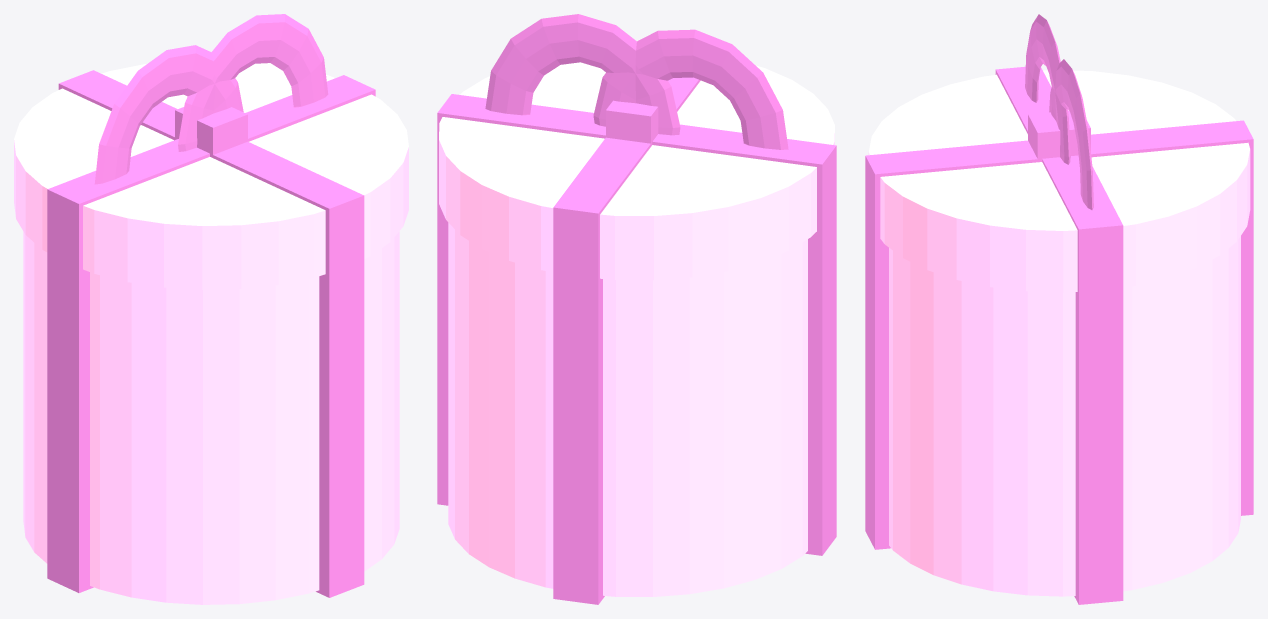
File: Tmpl_Round_Root_193.glb
The picture shows the model from 3 angles, left to right: view 1: azimuth 30°, elevation 25°; view 2: azimuth 150°, elevation 25°; view 3: azimuth 270°, elevation 25°; orthographic projection. The views are drawn at different scales.
Visible parts, largest first — view 1: Tmpl_Round_Base.191, Tmpl_Round_Lid.191, Tmpl_Round_Ribbon_Y.191, Tmpl_Round_Ribbon_X.191, Tmpl_Round_BowL.191, Tmpl_Round_BowR.191, Tmpl_Round_BowKnot.191; view 2: Tmpl_Round_Base.191, Tmpl_Round_Lid.191, Tmpl_Round_Ribbon_Y.191, Tmpl_Round_Ribbon_X.191, Tmpl_Round_BowL.191, Tmpl_Round_BowR.191, Tmpl_Round_BowKnot.191; view 3: Tmpl_Round_Base.191, Tmpl_Round_Lid.191, Tmpl_Round_Ribbon_X.191, Tmpl_Round_Ribbon_Y.191, Tmpl_Round_BowR.191, Tmpl_Round_BowL.191, Tmpl_Round_BowKnot.191.
Part boxes in pixels (x1,y1,x2,y2): Tmpl_Round_Base.191: [23, 231, 399, 604]; Tmpl_Round_Lid.191: [14, 63, 408, 289]; Tmpl_Round_Ribbon_Y.191: [58, 70, 364, 597]; Tmpl_Round_Ribbon_X.191: [47, 75, 375, 592]; Tmpl_Round_BowL.191: [178, 14, 328, 151]; Tmpl_Round_BowR.191: [94, 45, 243, 184]; Tmpl_Round_BowKnot.191: [175, 107, 247, 157]; Tmpl_Round_Base.191: [448, 223, 807, 596]; Tmpl_Round_Lid.191: [439, 62, 834, 280]; Tmpl_Round_Ribbon_Y.191: [553, 77, 700, 604]; Tmpl_Round_Ribbon_X.191: [437, 94, 836, 555]; Tmpl_Round_BowL.191: [485, 14, 680, 135]; Tmpl_Round_BowR.191: [593, 29, 788, 149]; Tmpl_Round_BowKnot.191: [606, 100, 658, 143]; Tmpl_Round_Base.191: [889, 236, 1240, 596]; Tmpl_Round_Lid.191: [868, 70, 1250, 292]; Tmpl_Round_Ribbon_X.191: [995, 66, 1123, 604]; Tmpl_Round_Ribbon_Y.191: [865, 120, 1253, 549]; Tmpl_Round_BowR.191: [1025, 14, 1070, 164]; Tmpl_Round_BowL.191: [1049, 59, 1093, 209]; Tmpl_Round_BowKnot.191: [1028, 110, 1090, 162].
Size of the model in its own units: 0.9497 by 1.29 by 0.9497.
